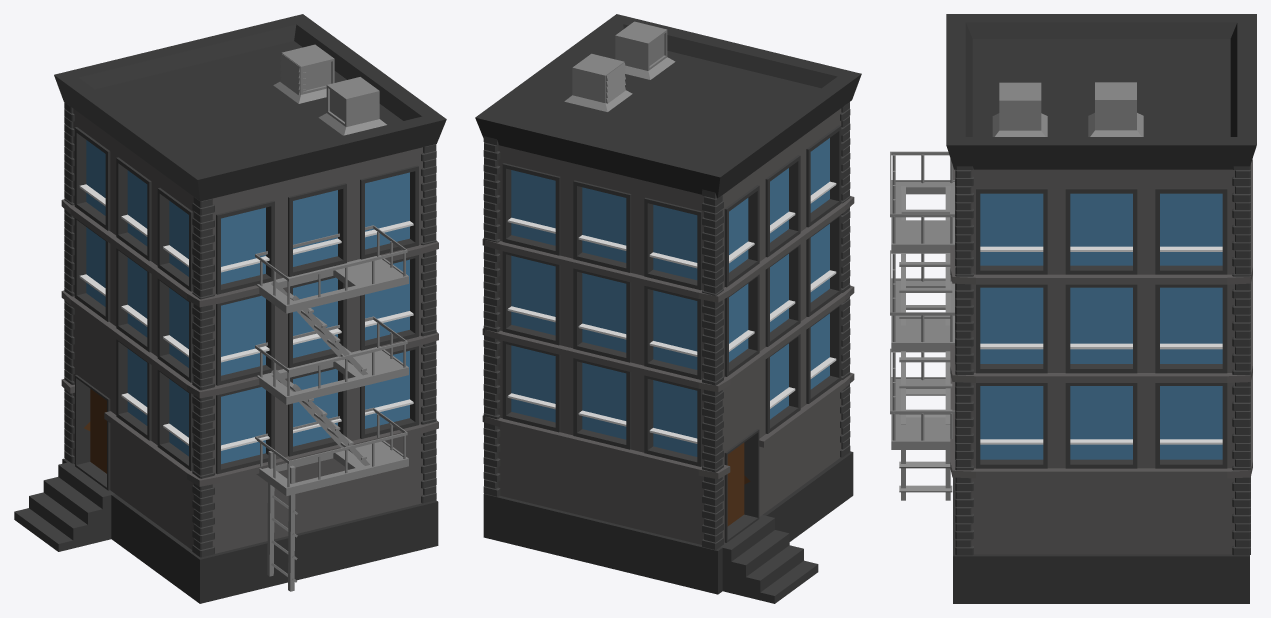
File: LowPolyBuidling.fbx
The picture shows the model from 3 angles, left to right: view 1: azimuth 30°, elevation 25°; view 2: azimuth 150°, elevation 25°; view 3: azimuth 270°, elevation 25°; orthographic projection. The views are drawn at different scales.
Parts seen in each view (by area): view 1: Building, StairCase, Bricks, Srairs, Roof; view 2: Building, Bricks, Srairs, Roof; view 3: Building, StairCase, Bricks, Roof.
Part boxes in pixels (x1,y1,x2,y2): Building: [54, 14, 446, 603]; StairCase: [255, 225, 408, 591]; Bricks: [64, 102, 436, 557]; Srairs: [14, 462, 114, 551]; Roof: [273, 44, 386, 135]; Building: [475, 14, 861, 594]; Bricks: [483, 102, 850, 549]; Srairs: [720, 515, 818, 603]; Roof: [564, 21, 675, 111]; Building: [946, 14, 1256, 603]; StairCase: [890, 151, 954, 500]; Bricks: [955, 164, 1250, 555]; Roof: [992, 82, 1143, 136].
Size of the model in its own units: 773 by 1116 by 766.
